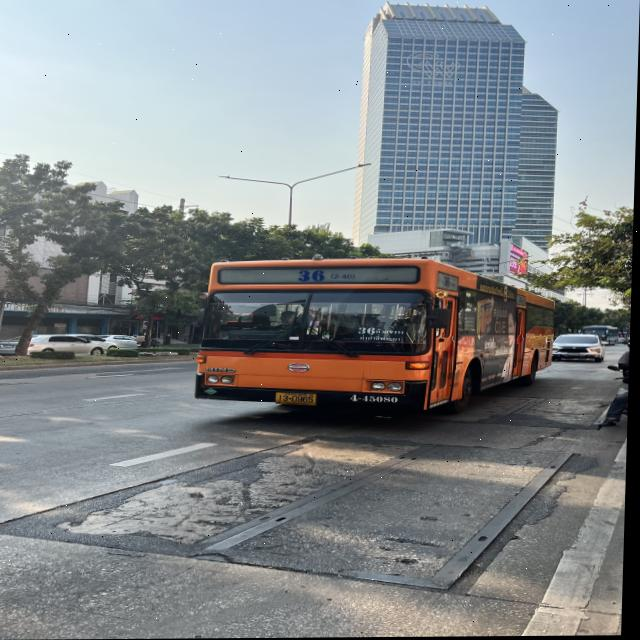BMTA-bus: (197, 257, 558, 415)
Bus Line Number: (289, 269, 364, 287)
Bus Side Number: (348, 394, 410, 406)
Destination Sign: (357, 324, 410, 343)
